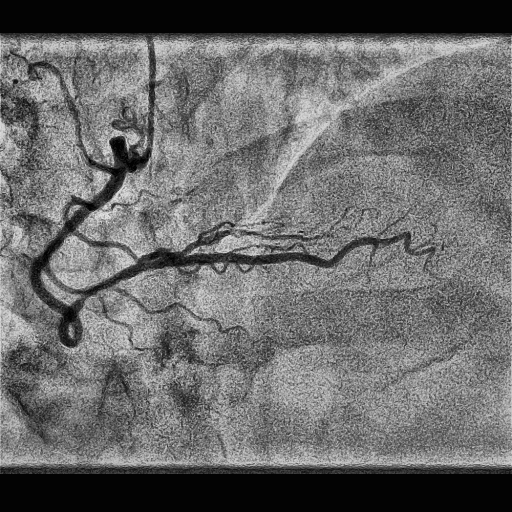pda: (141, 232, 435, 270)
rca: (31, 136, 145, 348)
